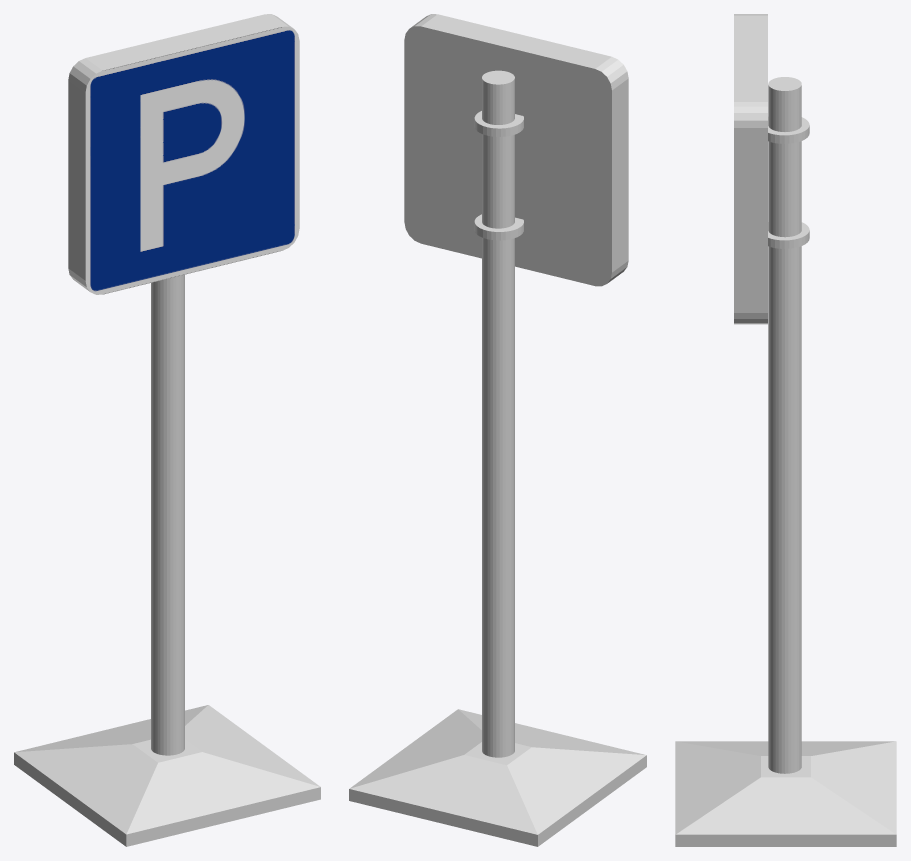
The model's file is park.dae.
The picture shows the model from 3 angles, left to right: view 1: azimuth 30°, elevation 25°; view 2: azimuth 150°, elevation 25°; view 3: azimuth 270°, elevation 25°; orthographic projection. The views are drawn at different scales.
Visible parts, largest first — view 1: Plane; view 2: Plane; view 3: Plane.
Boxes of the visible parts, x1,y1,x2,y2 form: Plane: (14, 14, 320, 846); Plane: (349, 14, 646, 846); Plane: (675, 14, 896, 846).
Size of the model in its own units: 0.823 by 0.7483 by 2.77.
Materials: 3 (1 with a texture image).
